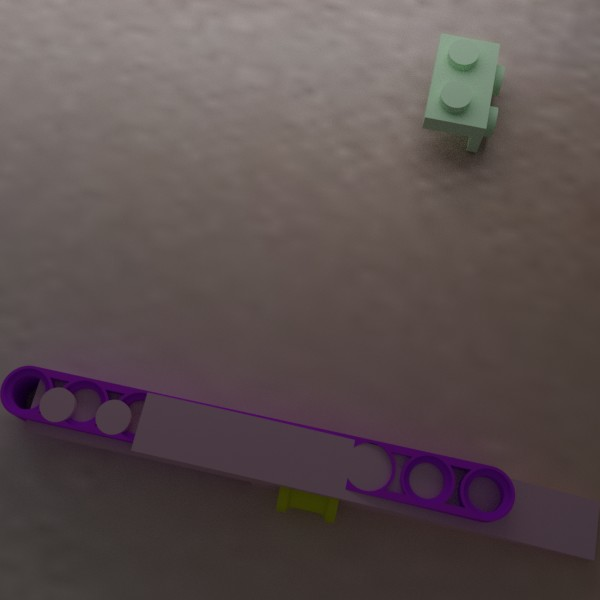lego: (23, 373, 600, 560), (0, 365, 515, 524), (421, 33, 504, 152), (276, 458, 344, 523)
